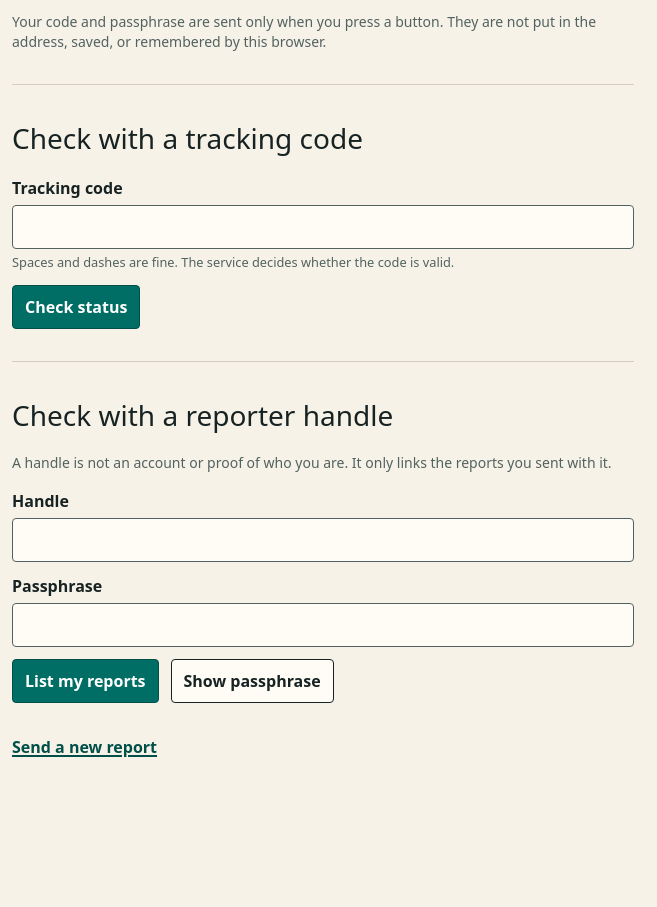
Test: TrackPanel › gives one generic answer for an unknown code, and keeps what was typed
The image size is (657, 907).
expect the button "Check status" is enabled: met, box [12,285,140,329]
Type "whatever" into the field labelled "Tracking code".
click(323, 227); type("whatever")  # box [12,205,634,249]
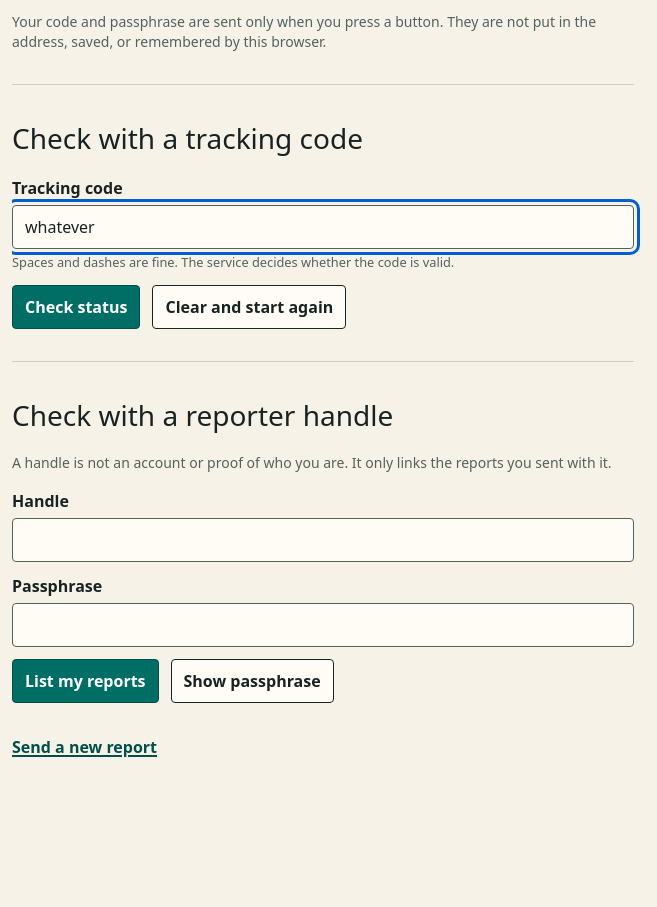
Click the button "Check status".
click(76, 307)  # box [12,285,140,329]
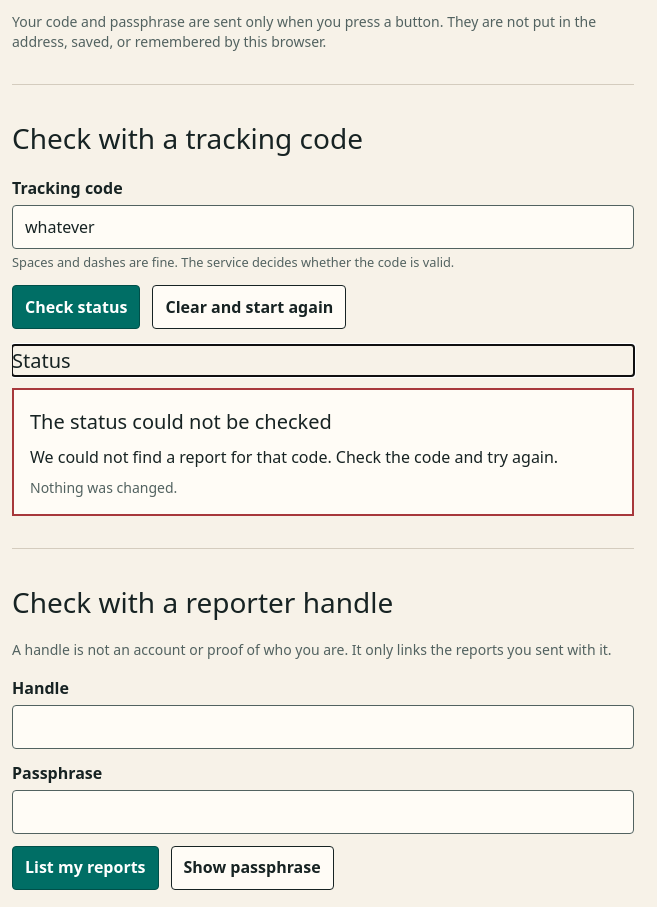
expect the text "We could not find a report for that code. Check the code and try again." is shown: met, box [30,445,616,470]
